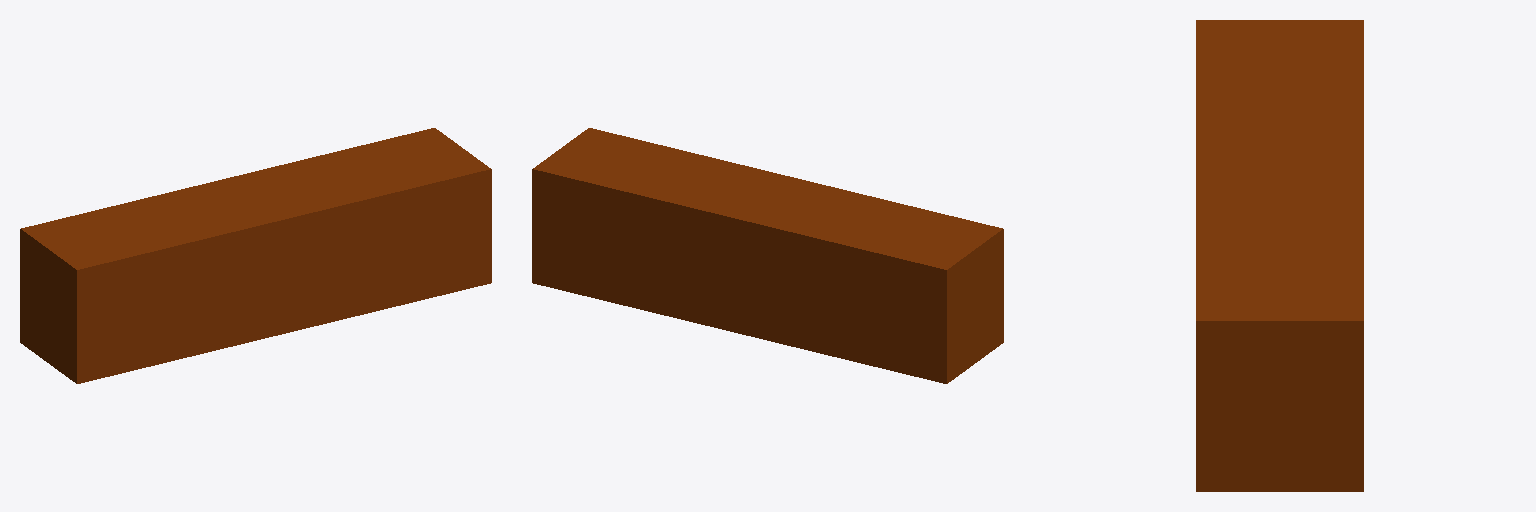
robot.urdf — handle_head:
<?xml version="1.0"?>
<robot name="handle_head">

  <link name="handle_head">
    <!-- Handle -->
    <visual>
      <origin xyz="0 0 0" rpy="0 0 0"/>
      <geometry>
        <box size="0.10265854745485722 0.02430498167604304 0.02704565347220862"/>
      </geometry>
      <material name="brown">
        <color rgba="0.55 0.27 0.07 1.0"/>
      </material>
    </visual>
    <collision>
      <origin xyz="0 0 0" rpy="0 0 0"/>
      <geometry>
        <box size="0.10265854745485722 0.02430498167604304 0.02704565347220862"/>
      </geometry>
    </collision>

    <inertial>
      <origin xyz="0 0 0" rpy="0 0 0"/>
      <mass value="0.024562783561426604"/>
      <inertia ixx="2.706408357598964e-06" iyy="2.3069048513842912e-05" izz="2.2780977749064295e-05" ixy="0" ixz="0" iyz="0"/>
    </inertial>
  </link>

</robot>

--- Facts derived from the render (not from the file) ---
The picture shows the robot from 3 angles, left to right: view 1: azimuth 30°, elevation 25°; view 2: azimuth 150°, elevation 25°; view 3: azimuth 270°, elevation 25°; orthographic projection.
Model handle_head with 1 links and 0 joints (none), rooted at handle_head, posed every joint at zero.
Links seen in each view (by area): view 1: handle_head; view 2: handle_head; view 3: handle_head.
Link boxes in pixels (box(x1,y1,x2,y2)): handle_head: box(20, 128, 491, 383); handle_head: box(532, 128, 1003, 383); handle_head: box(1196, 20, 1363, 491).
Size in the robot's own frame: 0.1027 by 0.0243 by 0.027 metres.
Geometry: primitives only (box / cylinder / sphere), no mesh files.
